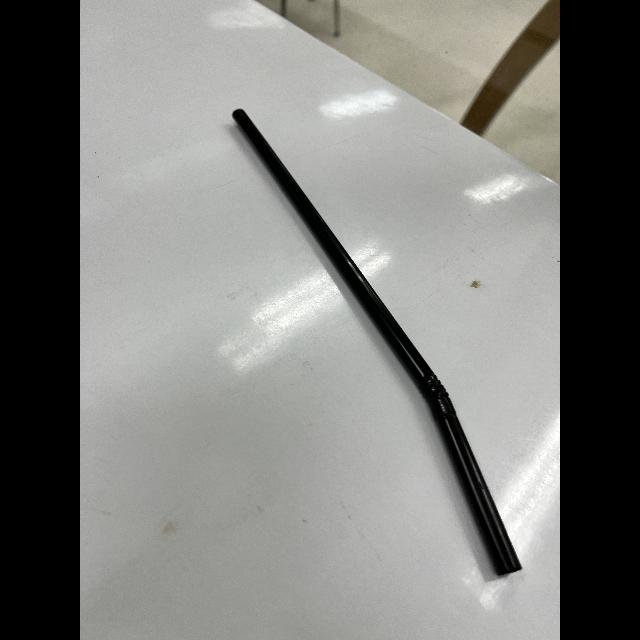straw: (229, 109, 527, 586)
